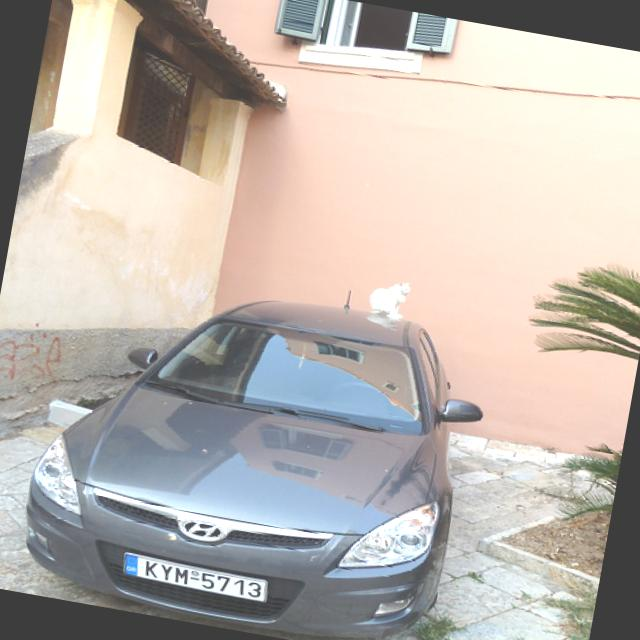Vehicle: (15, 252, 500, 640)
